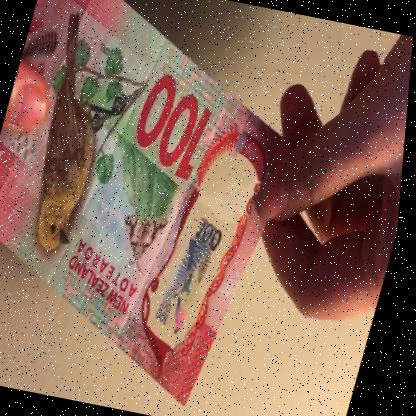100B: (149, 193, 238, 344)
